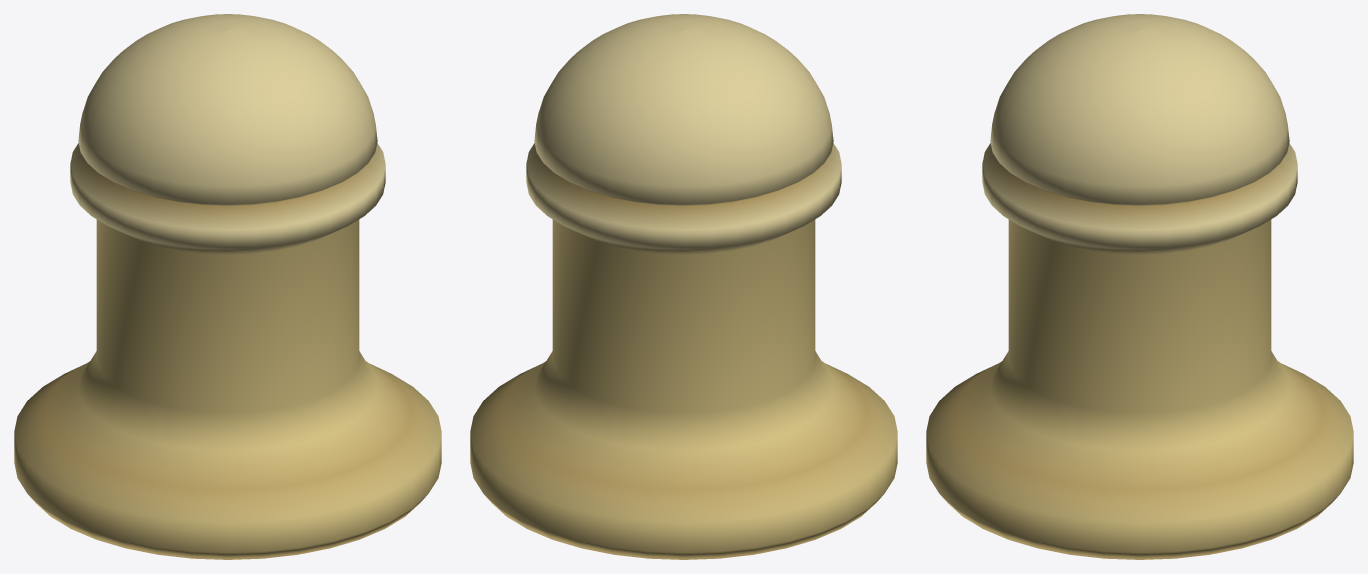
The model's file is pachinko-peg.glb.
The picture shows the model from 3 angles, left to right: view 1: azimuth 30°, elevation 25°; view 2: azimuth 150°, elevation 25°; view 3: azimuth 270°, elevation 25°; orthographic projection.
Visible parts, largest first — view 1: PachinkoPeg; view 2: PachinkoPeg; view 3: PachinkoPeg.
Part boxes in pixels (x1,y1,x2,y2): PachinkoPeg: [14, 14, 441, 559]; PachinkoPeg: [470, 14, 897, 559]; PachinkoPeg: [926, 14, 1353, 559].
Bounding box in the file's own units: 0.7 × 0.8 × 0.7.
